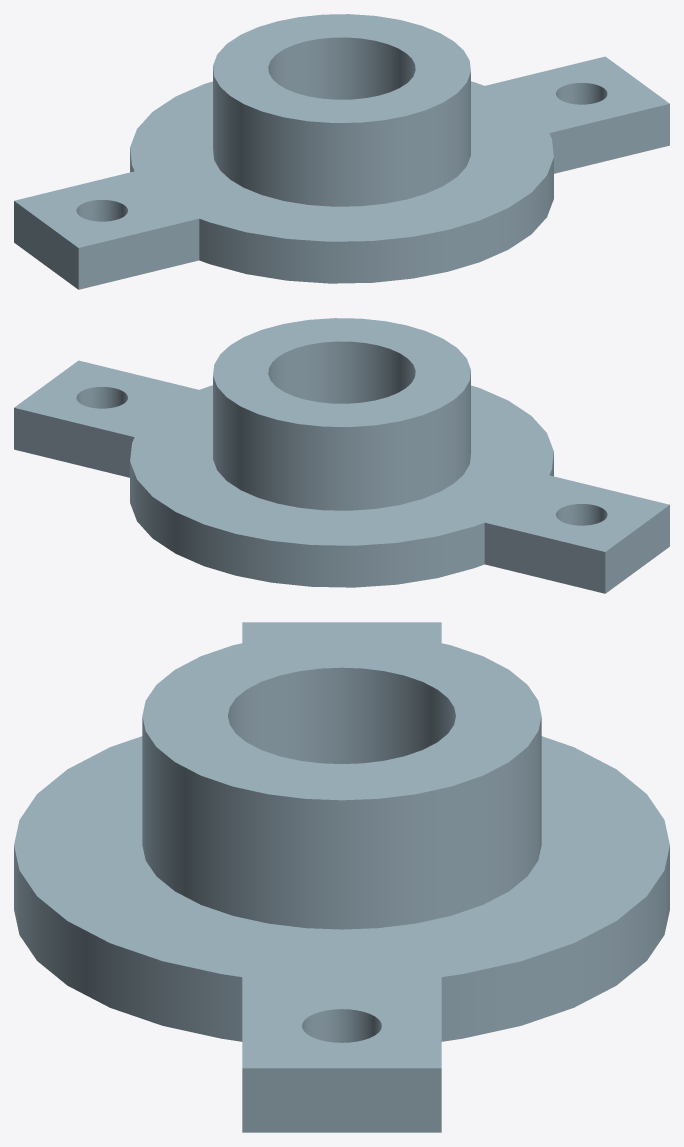
The model's file is 08_pedestal_foot.glb.
3 renders of one model, top to bottom at view 1: azimuth 30°, elevation 25°; view 2: azimuth 150°, elevation 25°; view 3: azimuth 270°, elevation 25°, orthographic. The views are drawn at different scales.
Parts seen in each view (by area): view 1: body; view 2: body; view 3: body.
Boxes of the visible parts, box(x1,y1,x2,y2) form: body: box(14, 14, 669, 289); body: box(14, 318, 669, 593); body: box(14, 622, 669, 1132).
Bounding box in the file's own units: 74 × 15 × 46.
